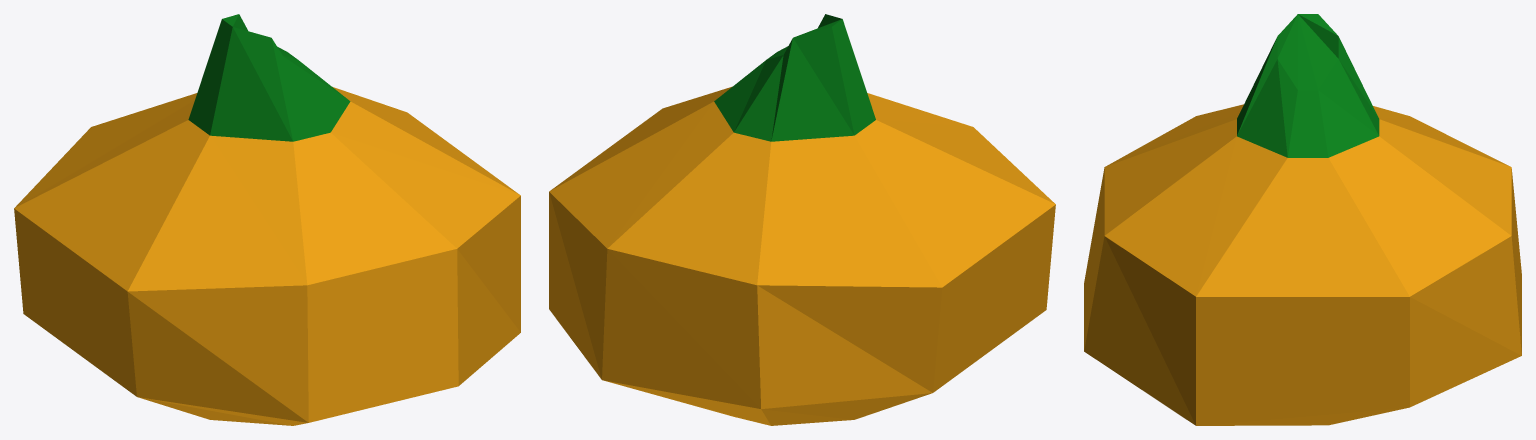
File: inv_pumpkin.obj
The picture shows the model from 3 angles, left to right: view 1: azimuth 30°, elevation 25°; view 2: azimuth 150°, elevation 25°; view 3: azimuth 270°, elevation 25°; orthographic projection. The views are drawn at different scales.
Bounding box in the file's own units: 0.3281 × 0.3047 × 0.3359.
